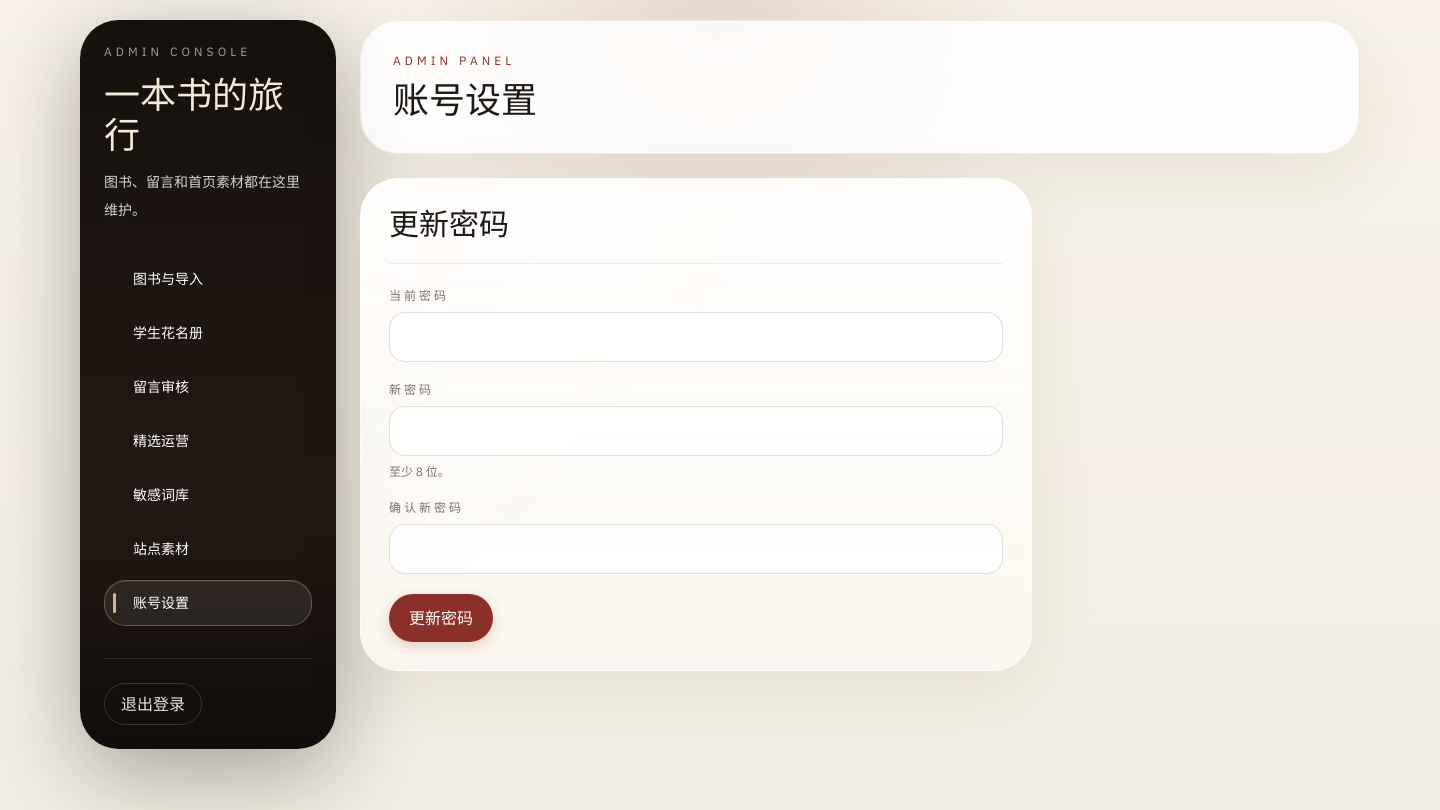
Test: Account settings › does not submit when password confirmation does not match
In the password field labelled "当前密码": point(696, 337) [389,312,1003,362], type "jyzx2026"
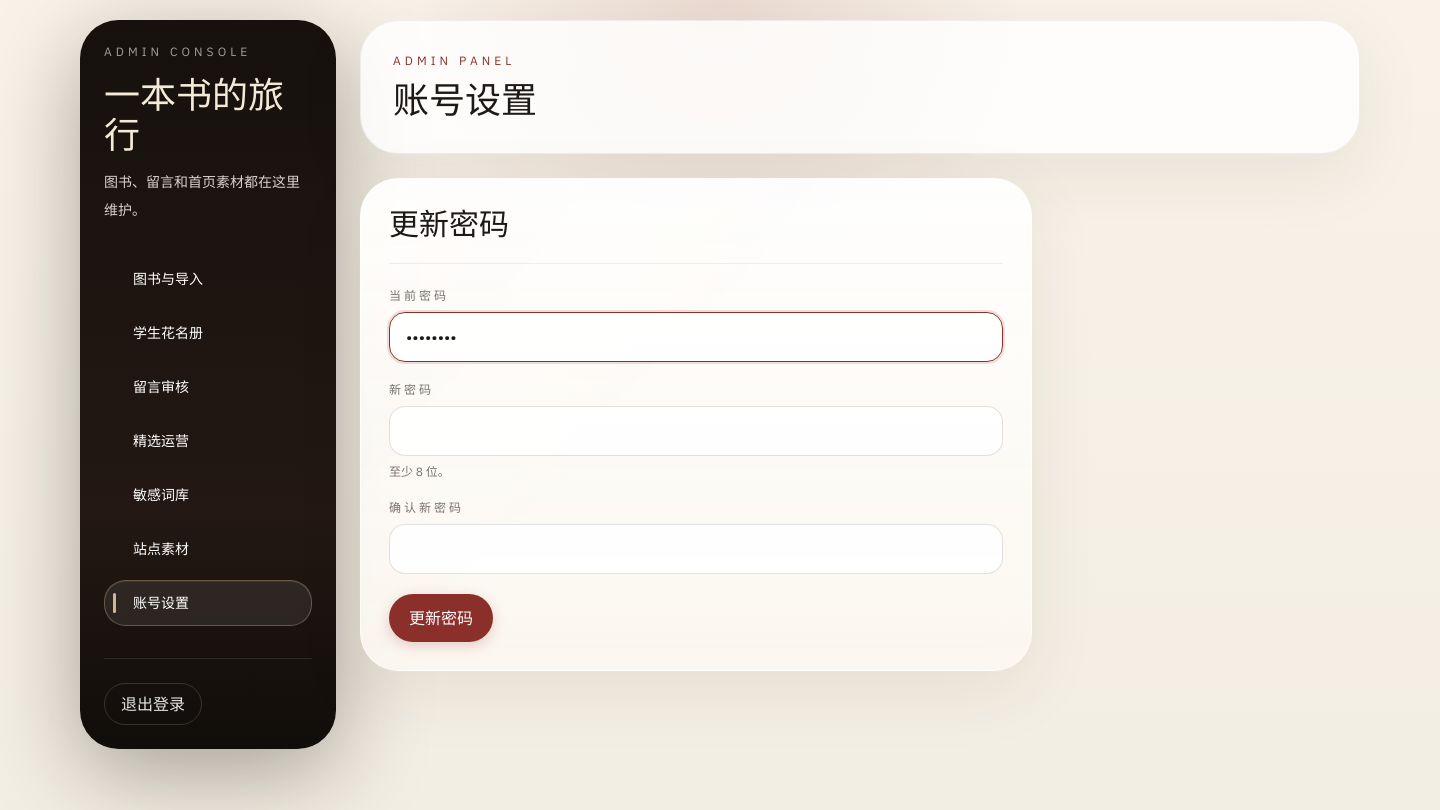
In the password field labelled "新密码": point(696, 431) [389,406,1003,456], type "new-admin-password"
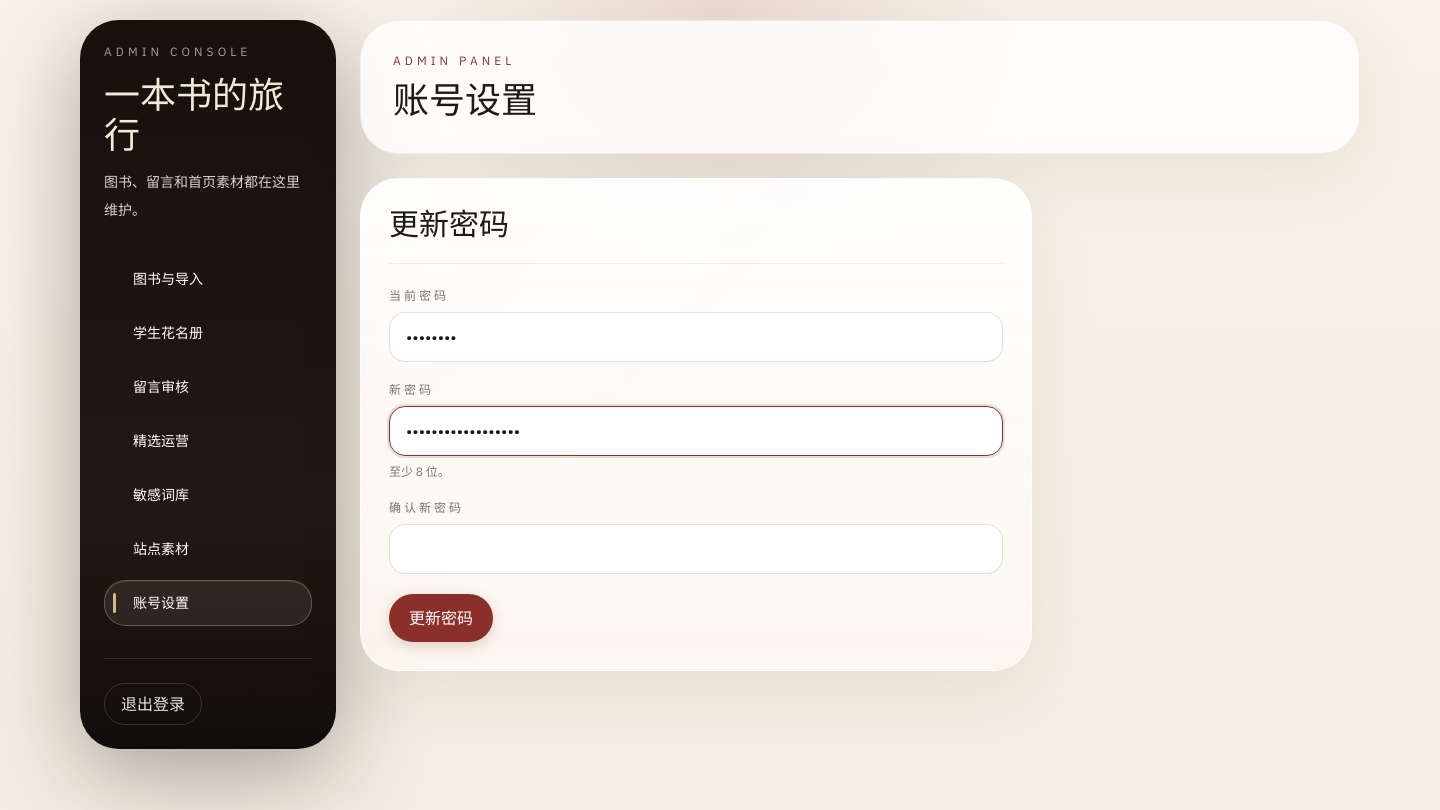
In the password field labelled "确认新密码": point(696, 549) [389,524,1003,574], type "different-password"
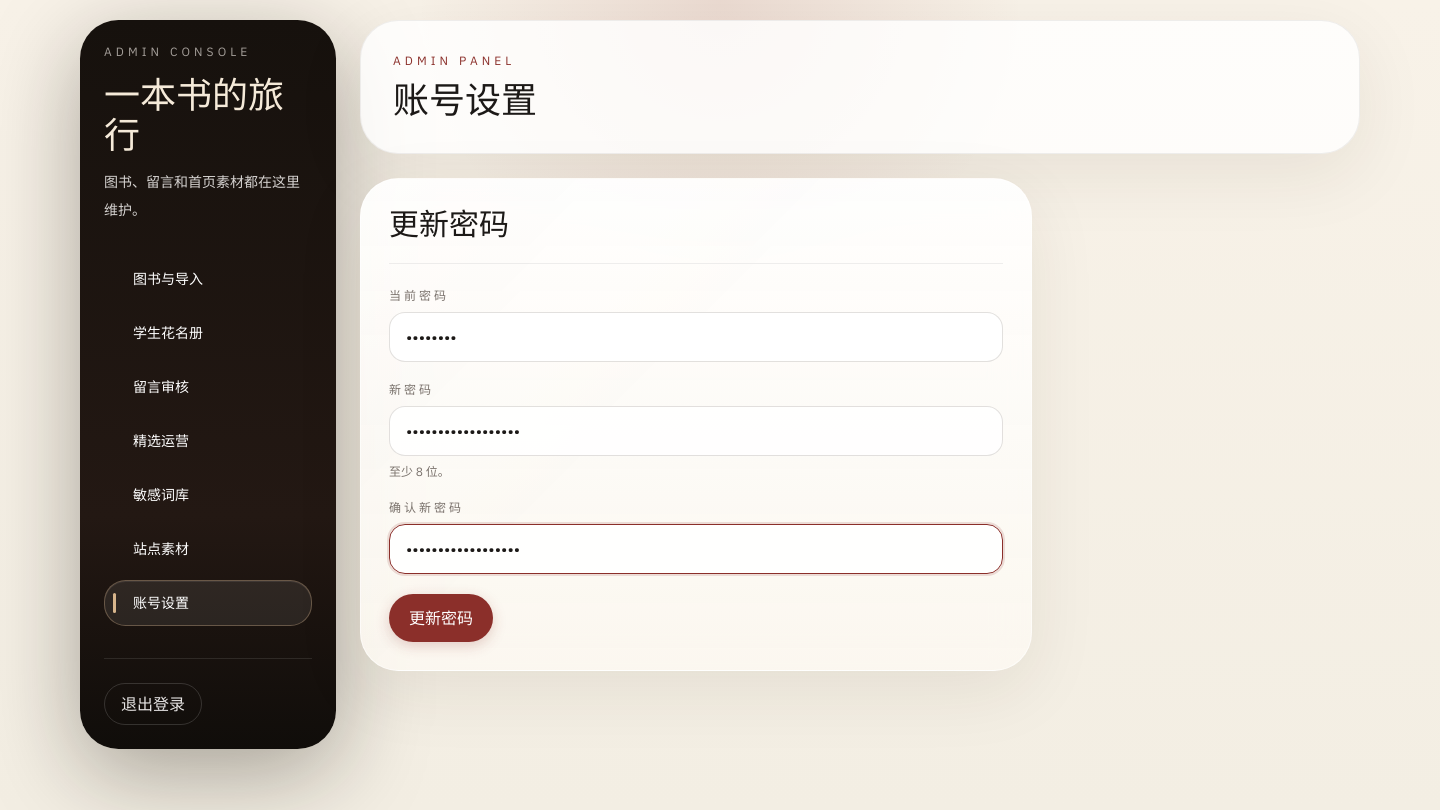
Click the button "更新密码": point(441, 618) [389,594,493,642]
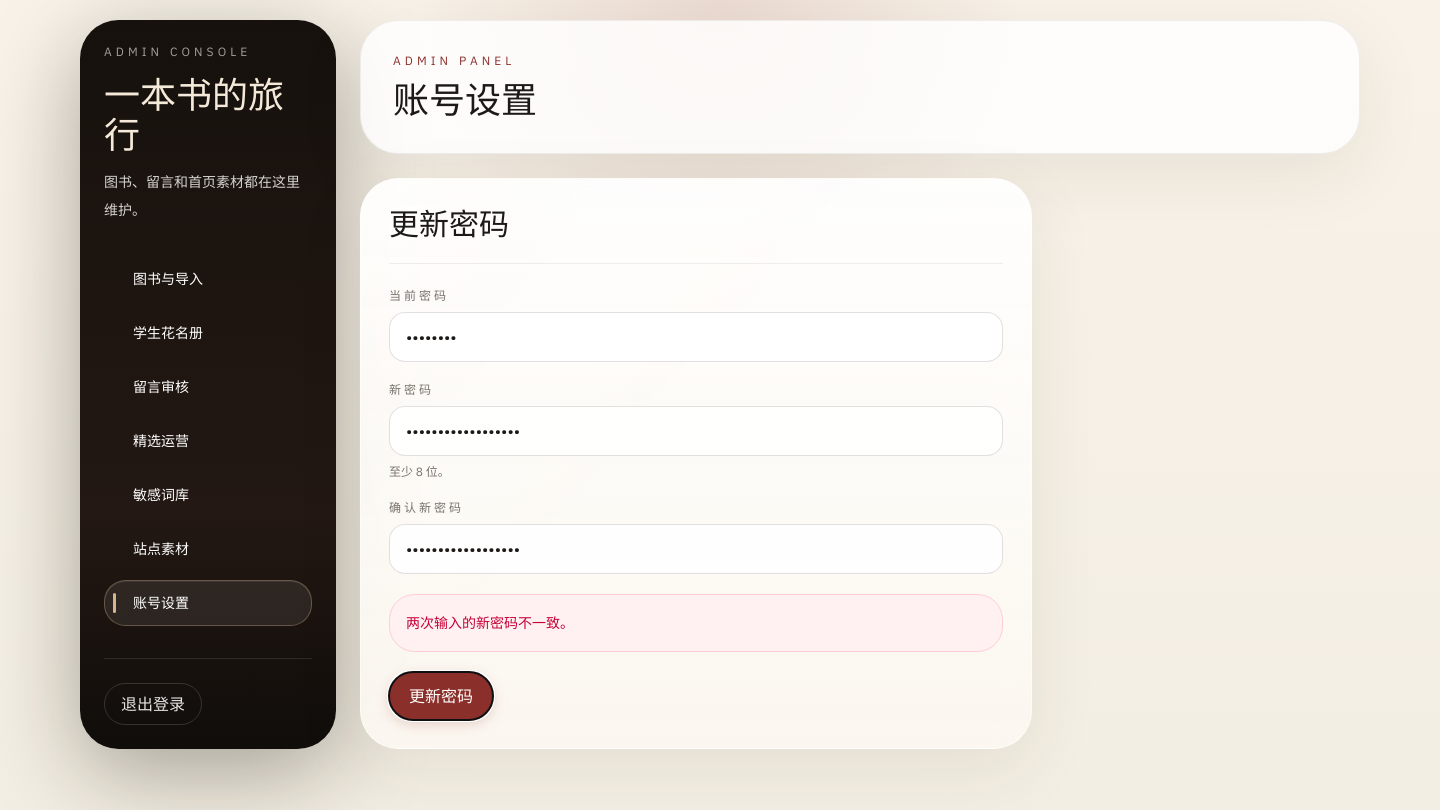
Check: the text "两次输入的新密码不一致。" is shown, box [389,594,1003,652]
